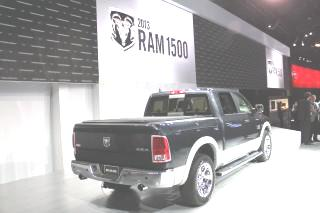ram: (107, 2, 139, 53), (101, 133, 115, 151)
